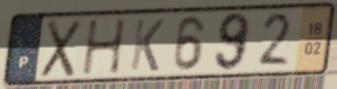2: (254, 10, 296, 71)
6: (172, 14, 209, 73)
9: (214, 10, 254, 74)
H: (81, 16, 129, 77)
K: (128, 17, 167, 73)
X: (37, 17, 85, 80)
